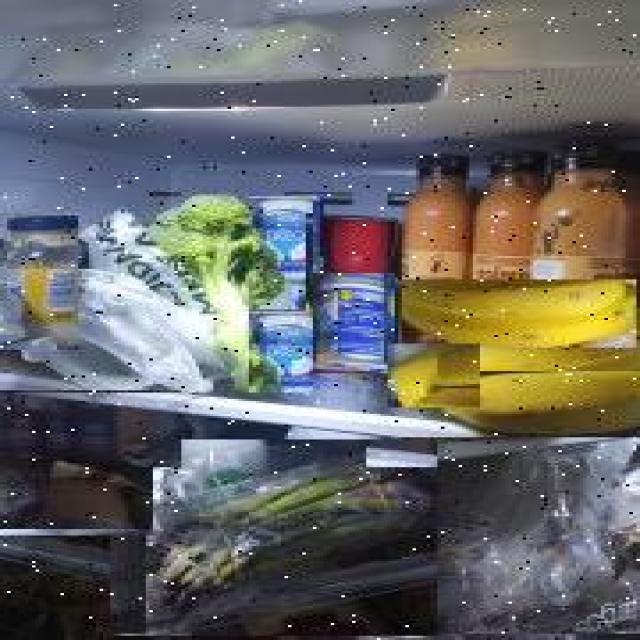asparagus: (110, 439, 438, 636)
banana: (404, 280, 638, 349), (412, 309, 640, 372), (437, 365, 640, 435), (388, 344, 480, 408)
broccoli: (149, 192, 313, 395)
cheese: (402, 438, 640, 635)
humus: (0, 391, 181, 468), (0, 459, 153, 536)
mayonaise: (0, 213, 78, 350)
yogurt: (306, 273, 394, 373), (249, 194, 323, 277)
